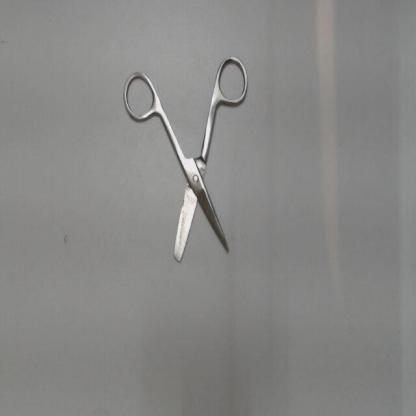Dressing Scissors: (114, 46, 258, 271)
